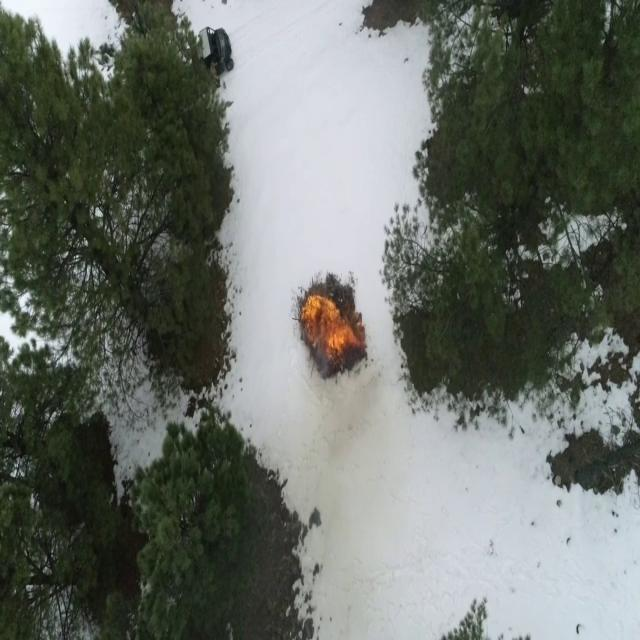fire: (302, 294, 353, 361)
